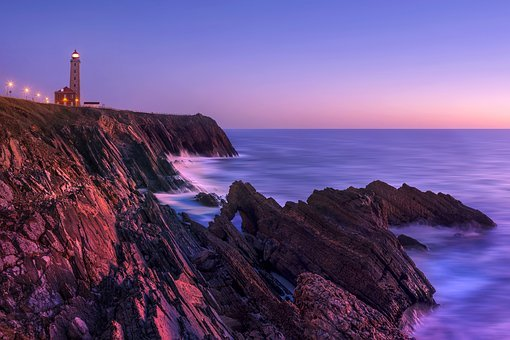sea: (244, 127, 508, 336)
sky: (2, 1, 505, 121)
stone: (7, 121, 266, 340)
